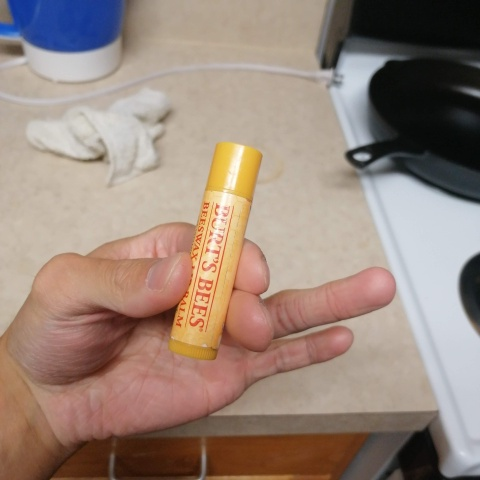chapstick: (168, 140, 265, 363)
